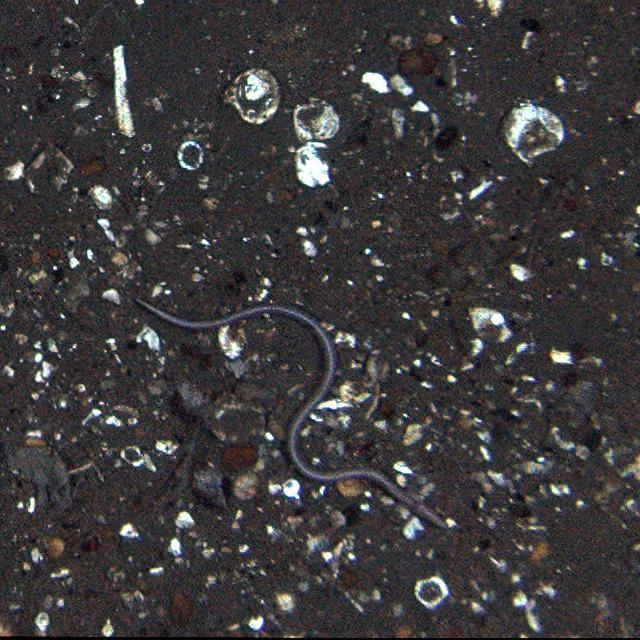eel: (132, 290, 447, 537)
